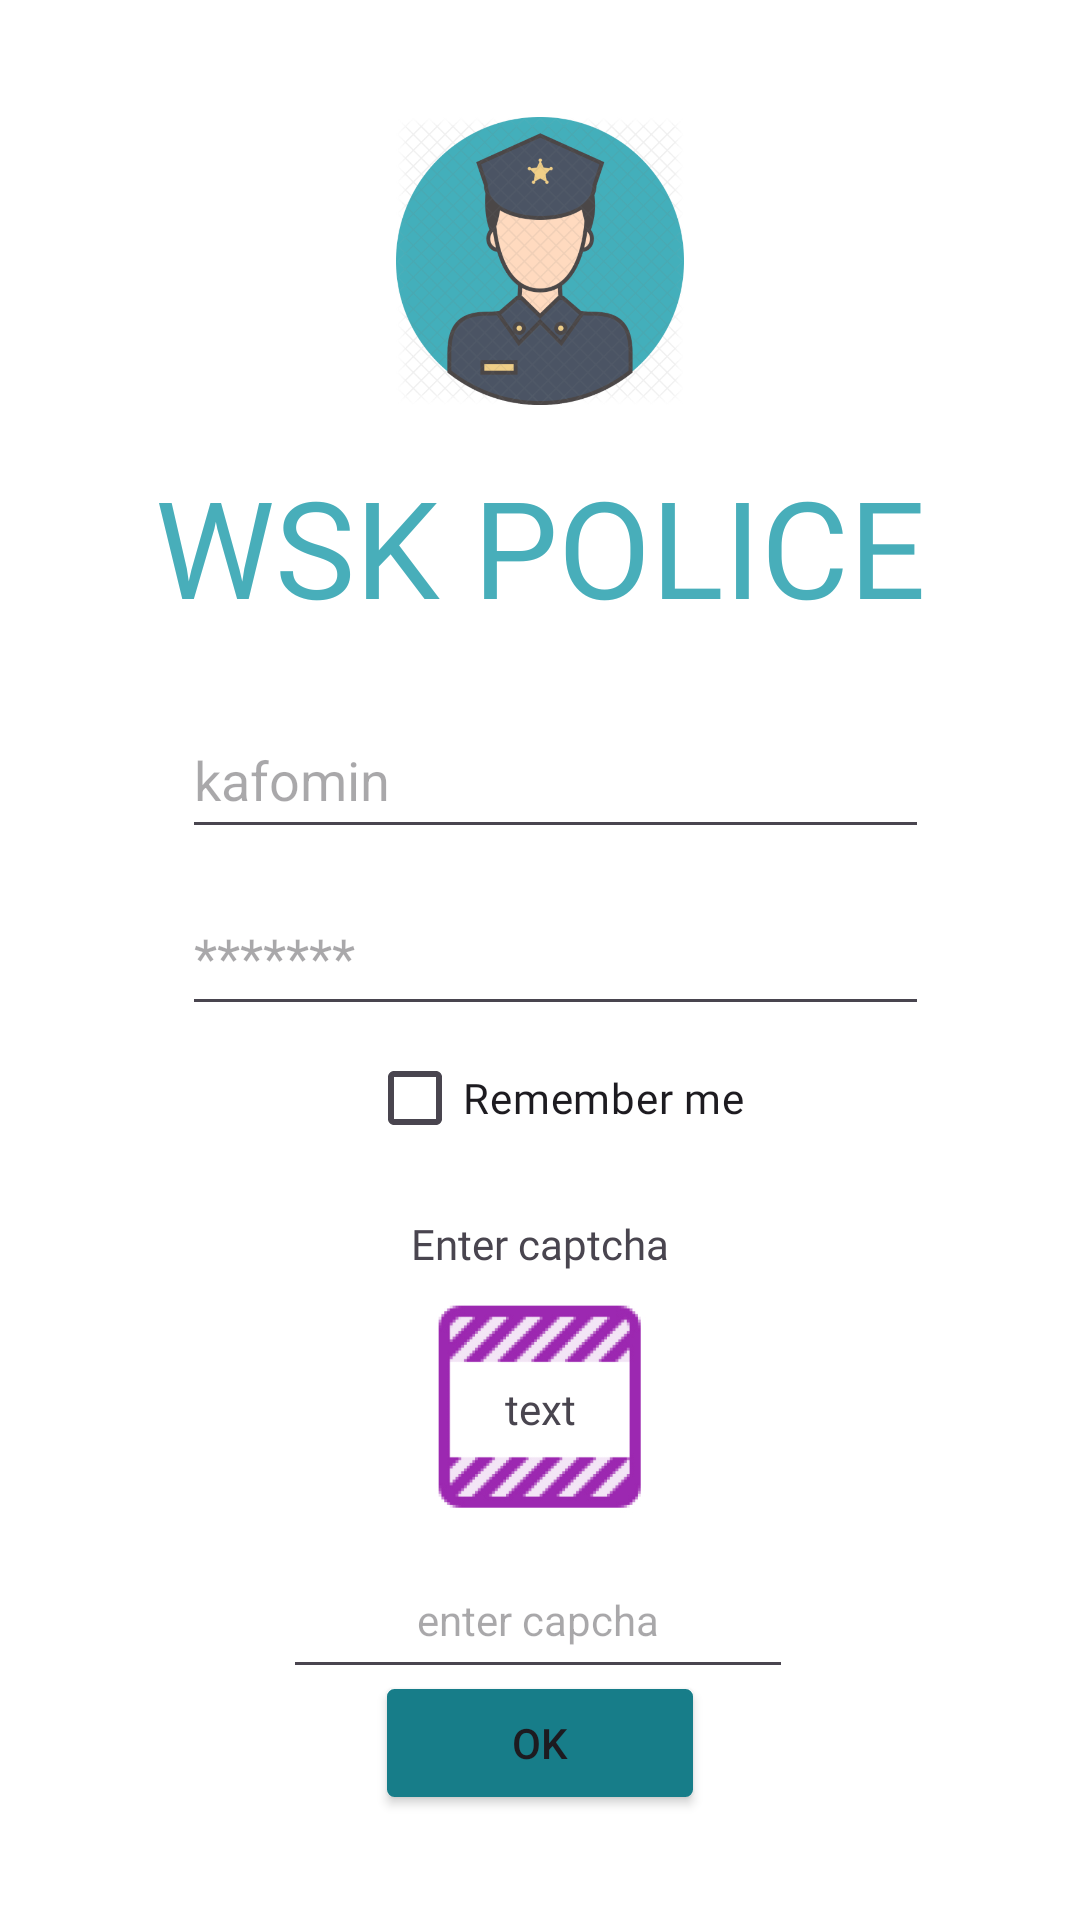

Icon bounding boxes for this 1080 x 1920 phone screenshot, format (x1, y1, x2, y2):
sherif: (396, 117, 684, 405)
